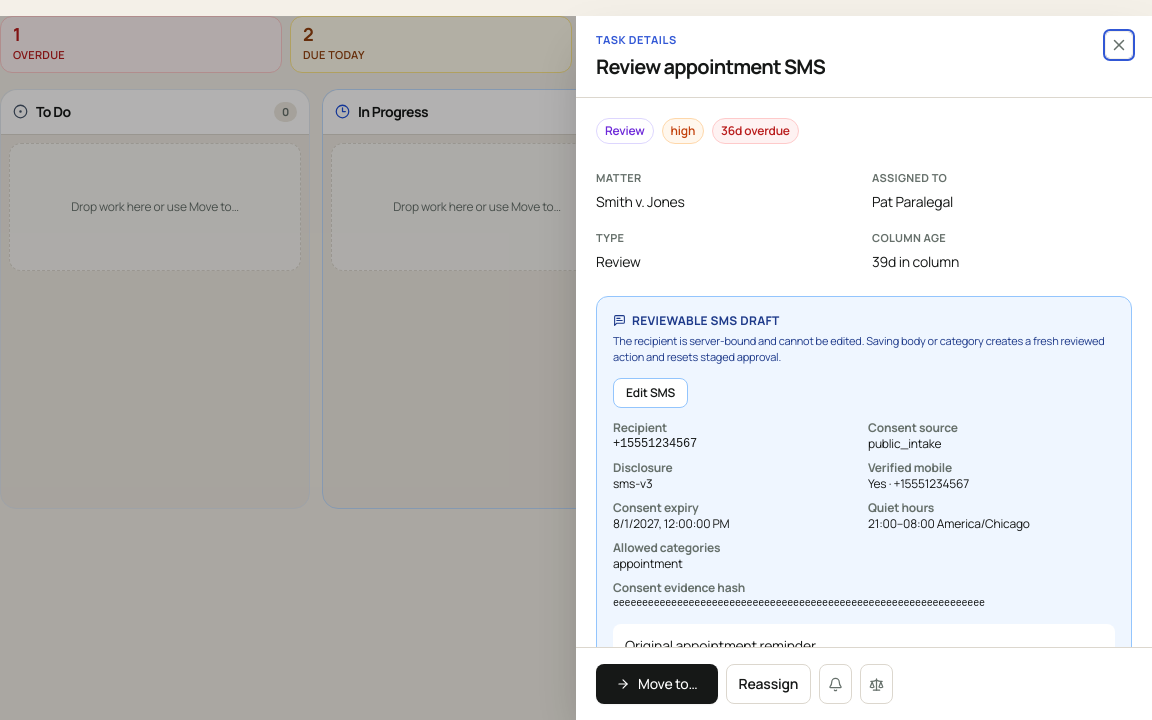
Test case: TaskBoard › shows consent evidence and resets review identity when an SMS draft is edited
Expected: the heading "Reviewable SMS draft" is shown, [613,312,780,328]
Expected: the text "public_intake" is shown, [868,434,941,452]
Click the button "Edit SMS" at (650, 392), box [613,378,688,408]
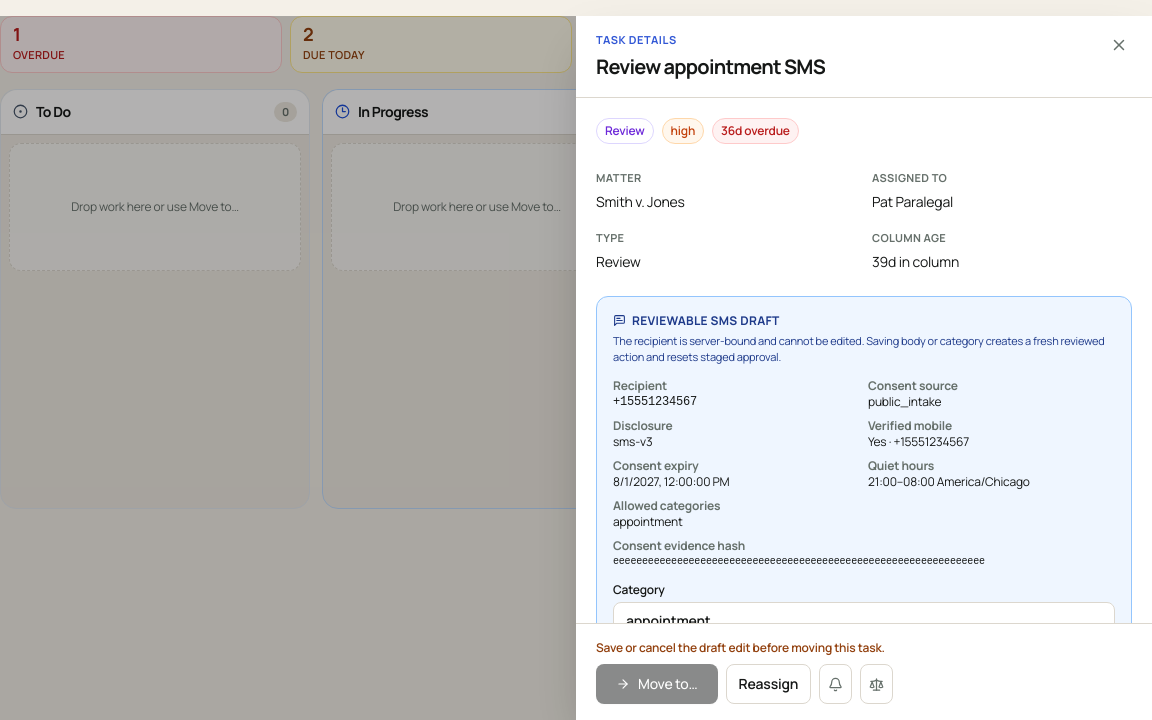
Clear the field labelled "Category" at (864, 620), box [613,602,1115,640]
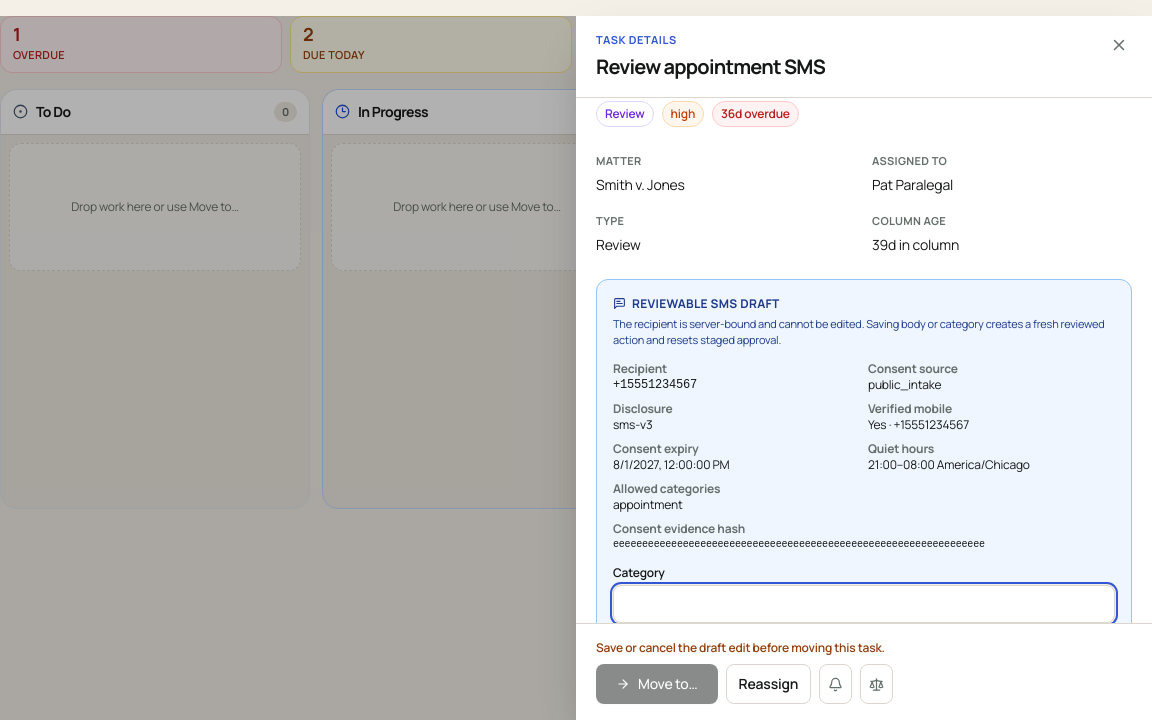
Type "appointment" into the field labelled "Category" at (864, 604), box [613,584,1115,622]
(page scrolled)
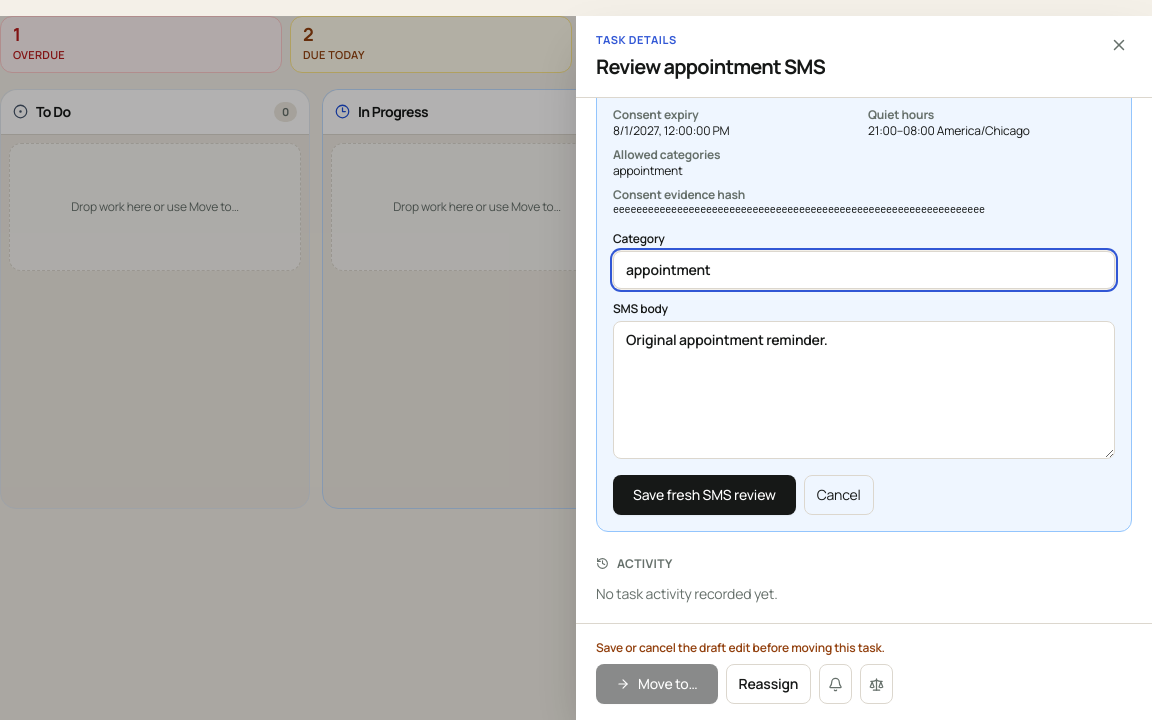
Replace the text in the text box labelled "SMS body" with "Updated appointment reminder." at (864, 390), box [613,320,1115,458]
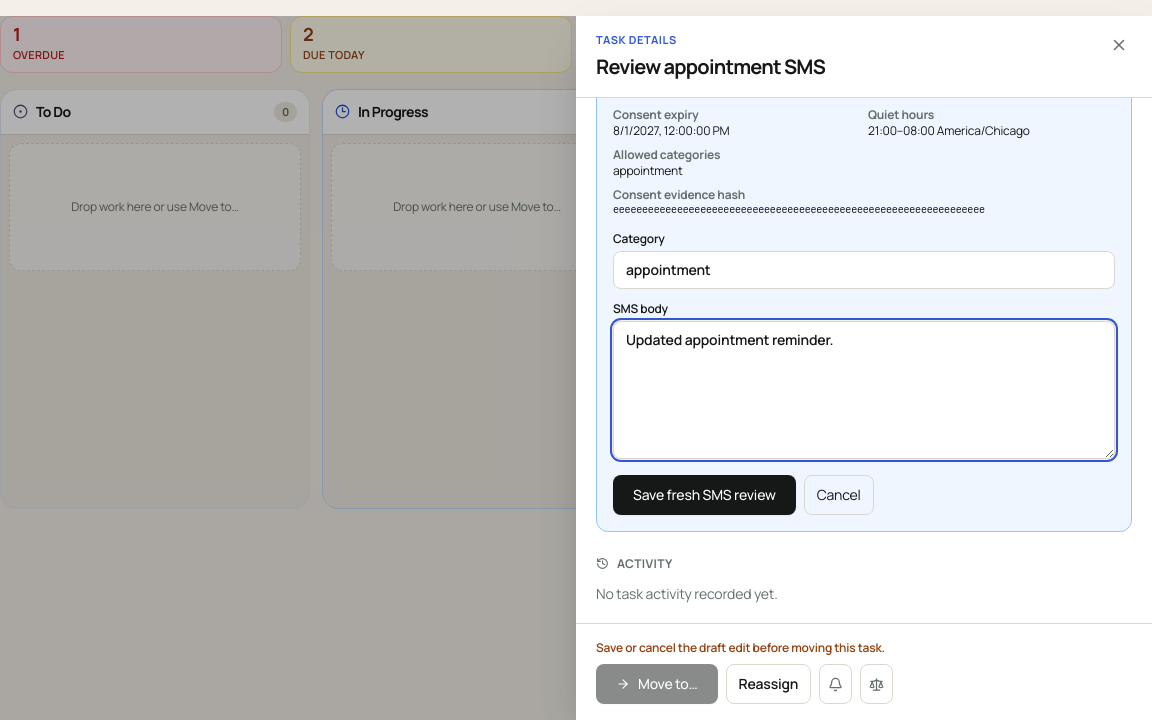
Expected: the button "Move to…" is disabled, [596,664,718,704]
Click the button "Save fresh SMS review" at (704, 494), box [613,474,796,514]
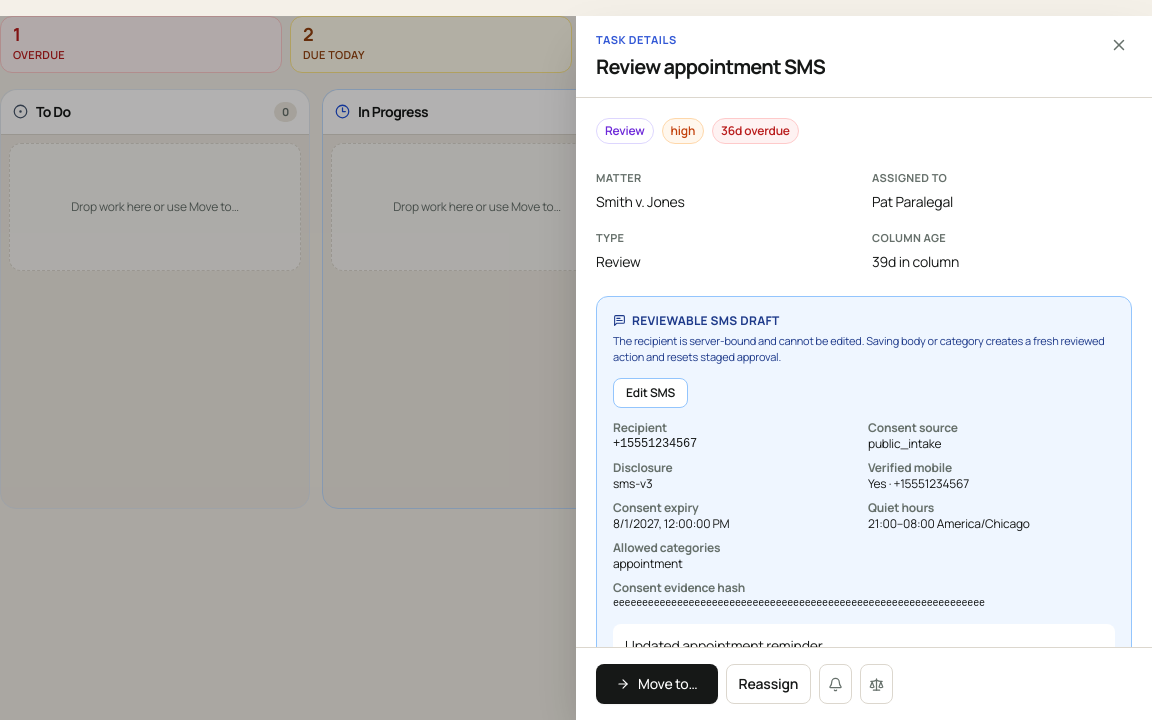
Expected: the text "Updated appointment reminder." is shown, [625,636,825,647]
